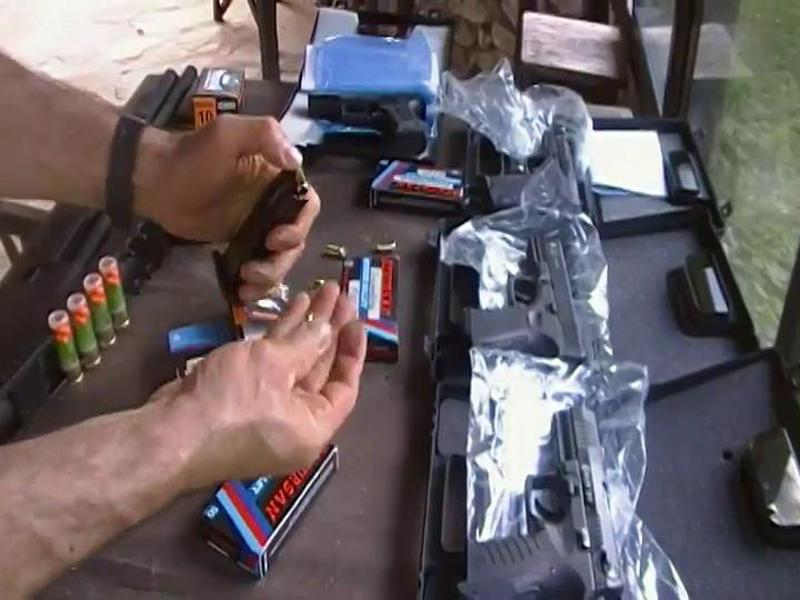Pistola: (434, 402, 645, 600), (442, 221, 605, 383)
